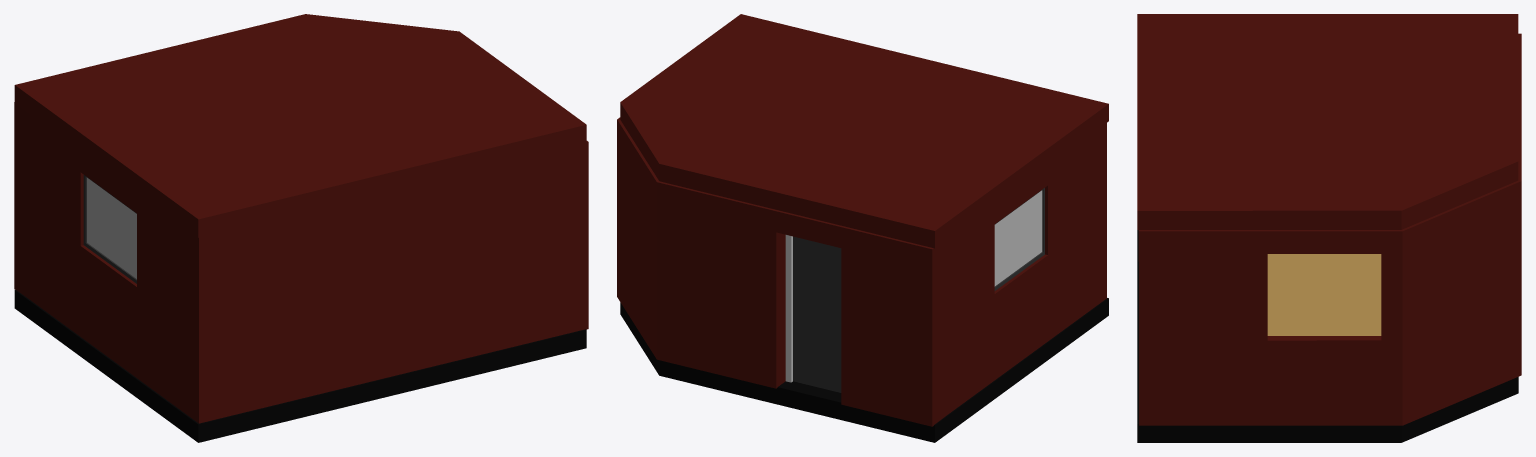
File: FloorPlan30_physics.fbx
3 renders of one model, left to right at view 1: azimuth 30°, elevation 25°; view 2: azimuth 150°, elevation 25°; view 3: azimuth 270°, elevation 25°, orthographic. The views are drawn at different scales.
Parts seen in each view (by area): view 1: Cube.015, Cube.075, Cube.048, Cube.067; view 2: Cube.015, Cube.075, Cube.048, Door, Cube.067, DoorFrame; view 3: Cube.075, Cube.015, Cube.074, Cube.048.
Boxes of the visible parts, left/top/right/bottom form: Cube.015: left=14, top=102, right=588, bottom=423; Cube.075: left=14, top=14, right=586, bottom=237; Cube.048: left=14, top=290, right=586, bottom=442; Cube.067: left=87, top=177, right=136, bottom=278; Cube.015: left=617, top=117, right=1106, bottom=426; Cube.075: left=620, top=14, right=1108, bottom=248; Cube.048: left=620, top=298, right=1108, bottom=442; Door: left=793, top=236, right=841, bottom=392; Cube.067: left=994, top=190, right=1042, bottom=286; DoorFrame: left=785, top=235, right=792, bottom=382; Cube.075: left=1137, top=14, right=1518, bottom=229; Cube.015: left=1138, top=33, right=1521, bottom=425; Cube.074: left=1267, top=254, right=1381, bottom=335; Cube.048: left=1137, top=230, right=1518, bottom=442.
Size of the model in its own units: 480 by 262 by 394.
